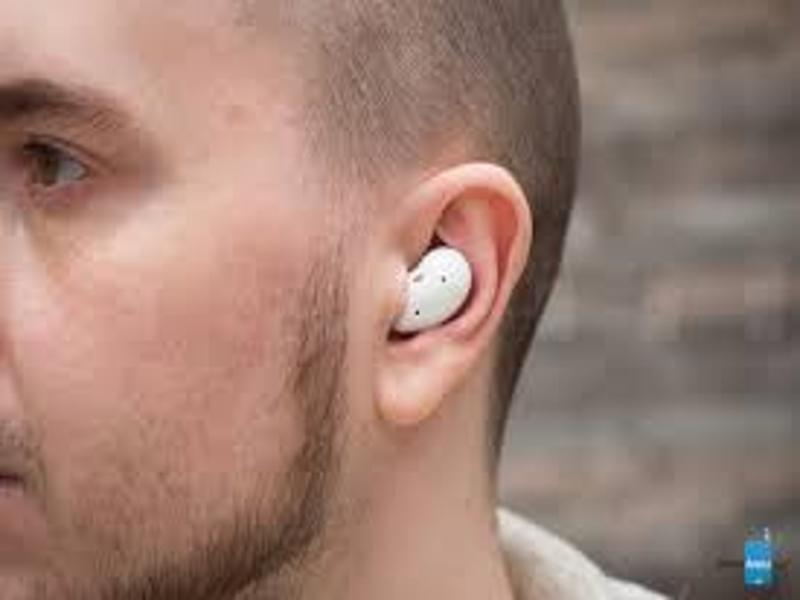headphone: (387, 243, 473, 337)
